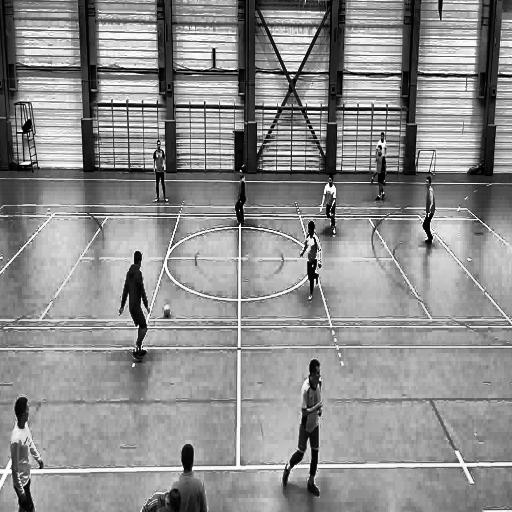ball: (162, 301, 171, 323)
player: (281, 358, 324, 496), (9, 392, 47, 512), (116, 248, 154, 364), (297, 221, 322, 304), (318, 169, 338, 237), (151, 138, 170, 206), (370, 126, 387, 189), (232, 165, 246, 228), (424, 176, 436, 247), (374, 144, 387, 204)
